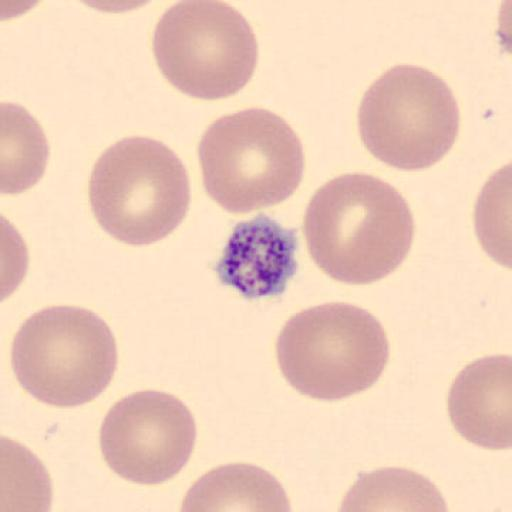Platelet: (210, 212, 302, 303)
RBC: (301, 169, 416, 288), (195, 104, 308, 216), (85, 133, 192, 248), (273, 299, 391, 403), (8, 302, 120, 410), (356, 61, 462, 173), (150, 0, 260, 103), (97, 387, 199, 487), (445, 352, 512, 452), (176, 460, 294, 512), (334, 464, 452, 512), (2, 101, 52, 197), (472, 159, 512, 273), (2, 433, 56, 512), (0, 213, 30, 305), (66, 1, 172, 16), (493, 0, 512, 69), (2, 0, 52, 21), (496, 0, 512, 59)
